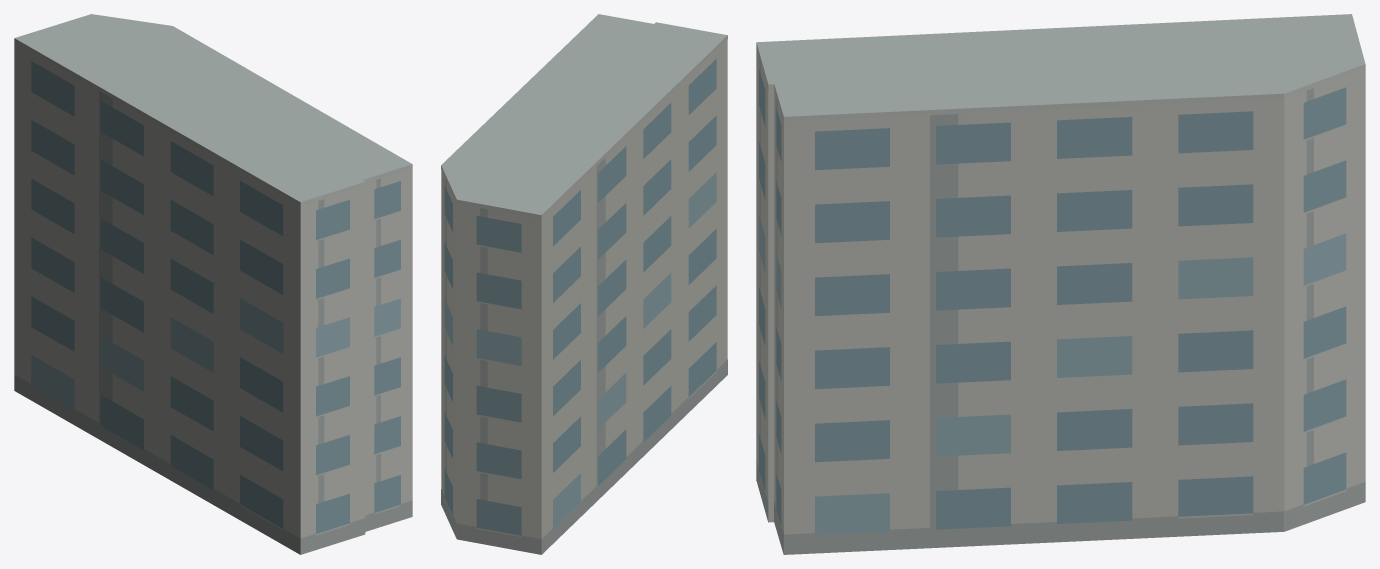
File: survey-upis-32871714.glb
3 views of the same model, side by side, from view 1: azimuth 30°, elevation 25°; view 2: azimuth 150°, elevation 25°; view 3: azimuth 270°, elevation 25° (orthographic). The views are drawn at different scales.
Visible parts, largest first — view 1: survey-upis-32871714.tmp; view 2: survey-upis-32871714.tmp; view 3: survey-upis-32871714.tmp.
Part boxes in pixels (bbox=[...]): survey-upis-32871714.tmp: bbox=[14, 14, 412, 554]; survey-upis-32871714.tmp: bbox=[441, 14, 727, 554]; survey-upis-32871714.tmp: bbox=[756, 14, 1365, 554].
Bounding box in the file's own units: 10.27 × 20.4 × 25.72.
